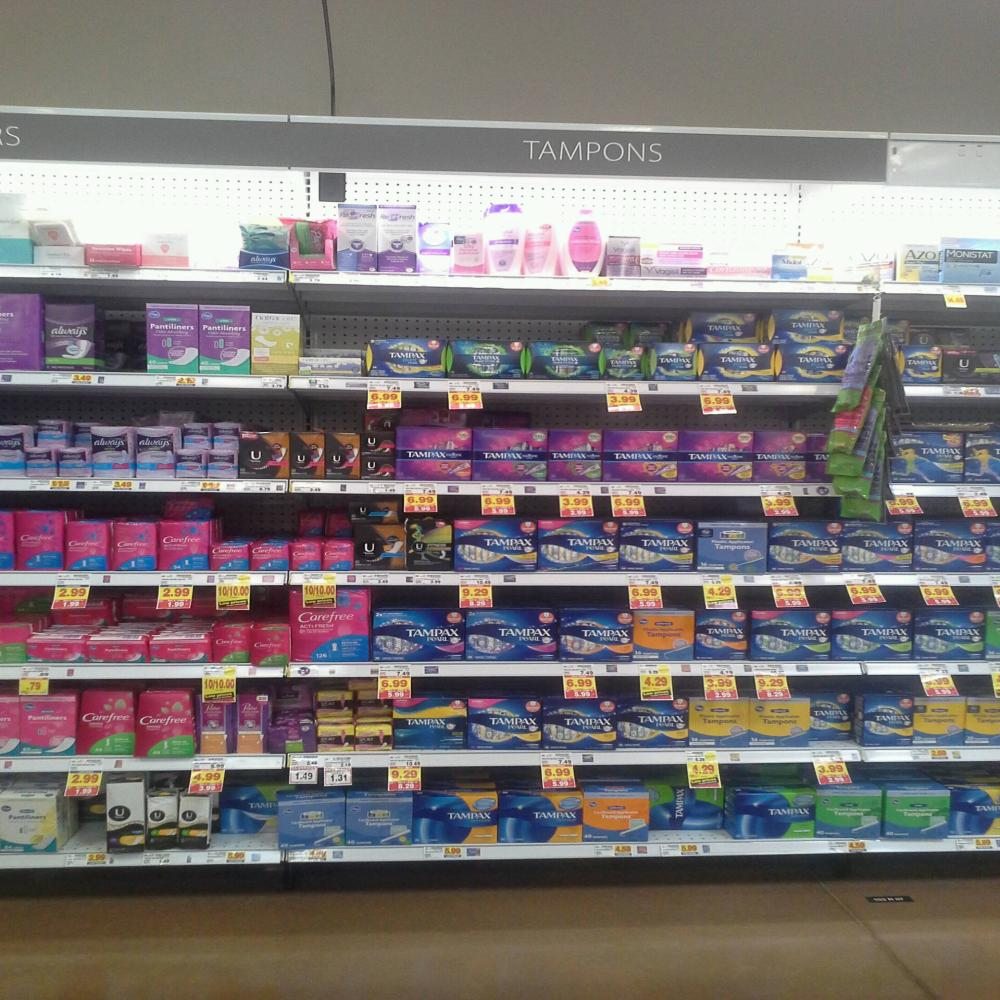shelf: (0, 835, 1000, 870), (0, 263, 1000, 297), (0, 370, 1000, 400), (0, 746, 1000, 773), (0, 475, 1000, 499), (0, 660, 1000, 680), (0, 569, 1000, 587)
